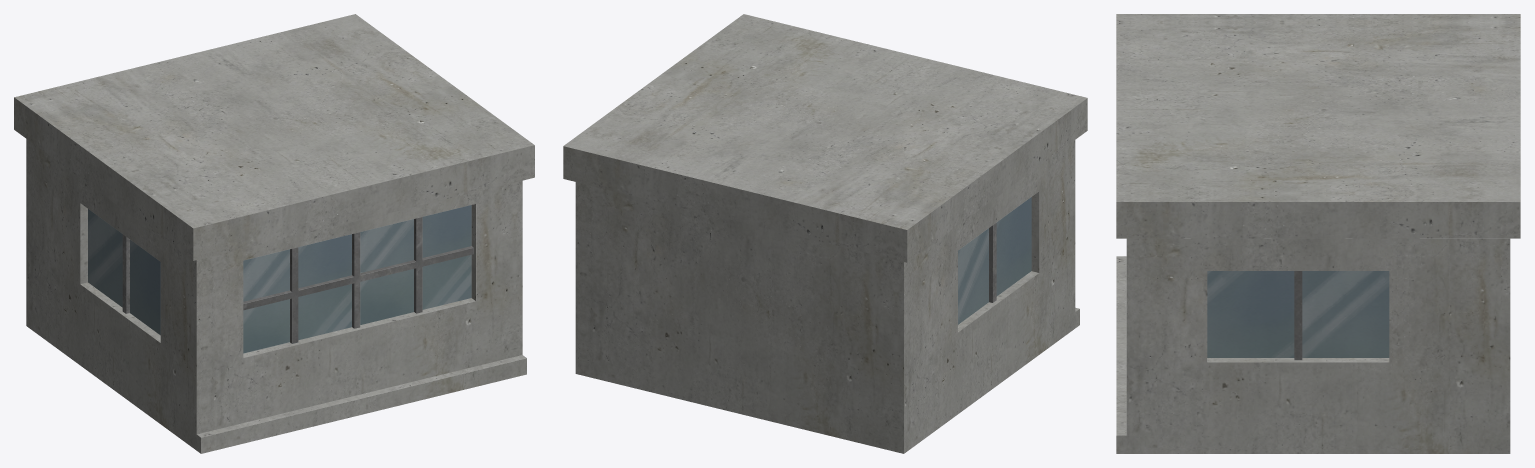
The picture shows the model from 3 angles, left to right: view 1: azimuth 30°, elevation 25°; view 2: azimuth 150°, elevation 25°; view 3: azimuth 270°, elevation 25°; orthographic projection. The views are drawn at different scales.
Parts seen in each view (by area): view 1: 2층; view 2: 2층; view 3: 2층.
Part boxes in pixels (x1=…): 2층: x1=14, y1=14, x2=534, y2=453; 2층: x1=563, y1=14, x2=1087, y2=453; 2층: x1=1116, y1=14, x2=1520, y2=453.
Bounding box in the file's own units: 220 × 140 × 200.
4 materials, 4 textured.
